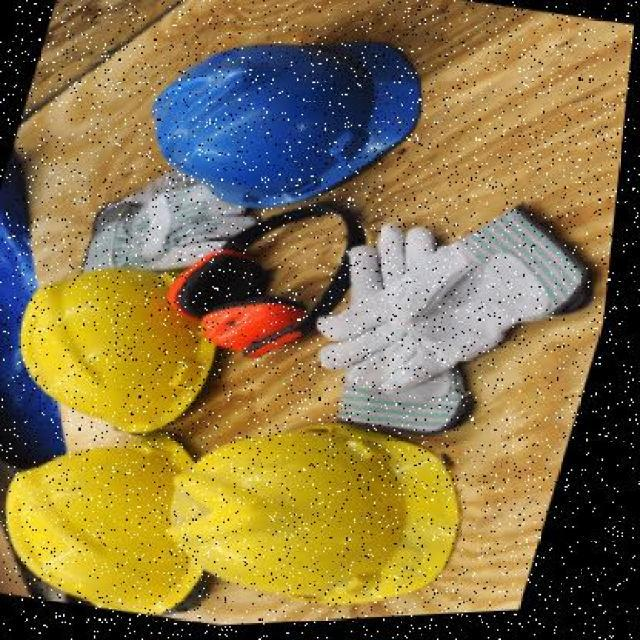helmet: (157, 388, 505, 630), (125, 0, 449, 245), (0, 403, 265, 632), (0, 242, 257, 454)
